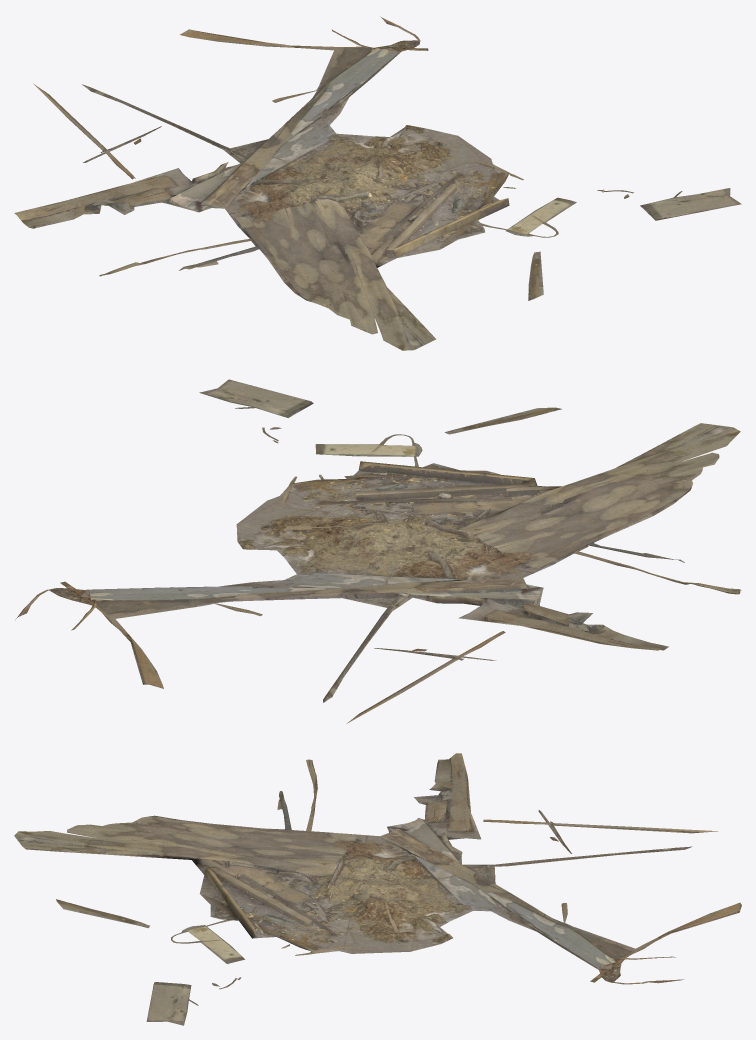
File: sm20_012_debris00.fbx
The picture shows the model from 3 angles, top to bottom: view 1: azimuth 30°, elevation 25°; view 2: azimuth 150°, elevation 25°; view 3: azimuth 270°, elevation 25°; orthographic projection. The views are drawn at different scales.
Visible parts, largest first — view 1: LOD_1_Group_0_Sub_1__sm20_012_debris00_A_Mat; view 2: LOD_1_Group_0_Sub_1__sm20_012_debris00_A_Mat; view 3: LOD_1_Group_0_Sub_1__sm20_012_debris00_A_Mat.
Boxes of the visible parts, <box> form: LOD_1_Group_0_Sub_1__sm20_012_debris00_A_Mat: <box>14,17,741,350</box>; LOD_1_Group_0_Sub_1__sm20_012_debris00_A_Mat: <box>15,379,741,723</box>; LOD_1_Group_0_Sub_1__sm20_012_debris00_A_Mat: <box>14,753,741,1025</box>.
Bounding box in the file's own units: 3.68 × 0.0873 × 4.27.
